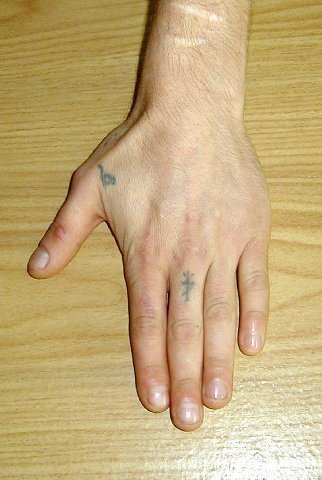tatu9_krest: (183, 267, 198, 311)
